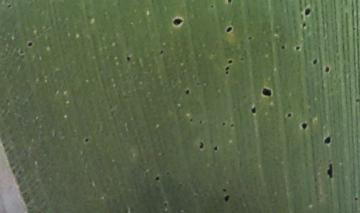tarspot: (324, 161, 338, 183), (168, 13, 187, 29), (259, 83, 275, 101), (296, 120, 311, 133), (321, 131, 333, 147), (301, 5, 315, 18), (247, 102, 259, 117), (196, 137, 206, 154), (219, 65, 234, 75), (209, 143, 221, 155), (181, 87, 194, 98), (156, 45, 166, 59), (80, 134, 92, 145), (223, 22, 234, 34), (244, 33, 256, 44), (151, 173, 164, 183), (310, 54, 319, 68), (351, 191, 360, 205), (195, 116, 207, 126), (228, 117, 236, 132), (323, 64, 332, 77), (300, 18, 308, 32), (225, 55, 236, 65), (294, 43, 304, 54), (25, 38, 34, 50), (221, 193, 234, 201), (219, 117, 226, 131), (280, 41, 287, 55), (187, 114, 195, 126), (124, 54, 133, 64), (220, 185, 230, 194), (284, 111, 293, 119), (352, 96, 360, 105), (223, 1, 236, 5)
